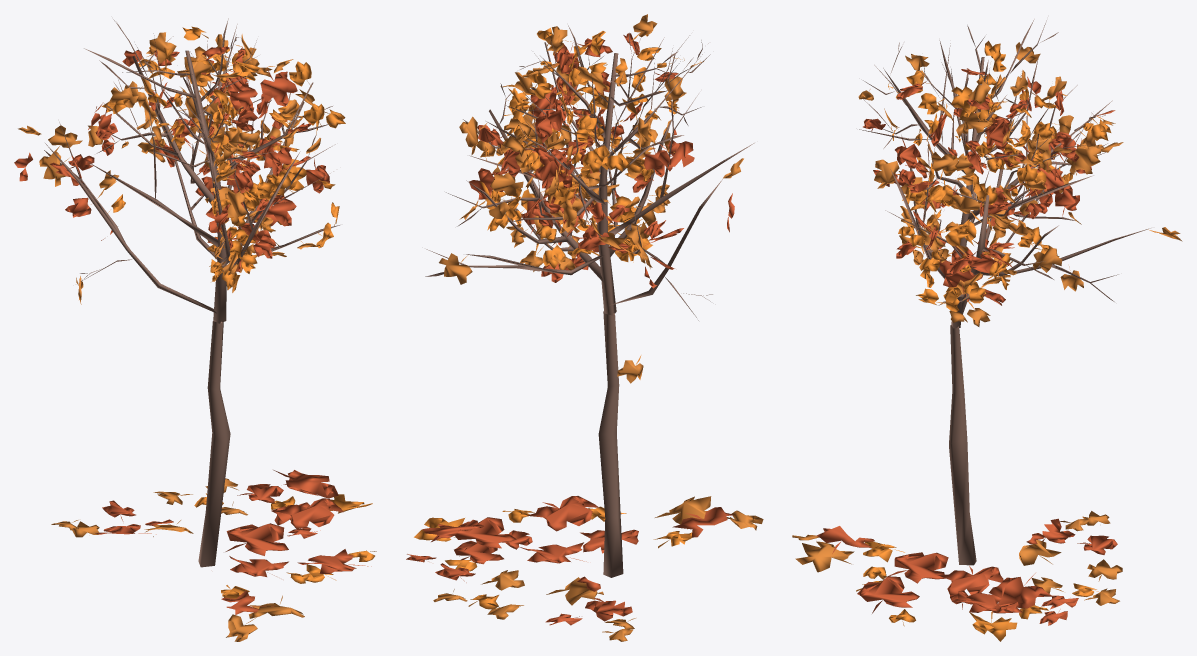
Rendered from caymoi.fbx.
3 views of the same model, side by side, from view 1: azimuth 30°, elevation 25°; view 2: azimuth 150°, elevation 25°; view 3: azimuth 270°, elevation 25° (orthographic). The views are drawn at different scales.
Visible parts, largest first — view 1: yellow, tree; view 2: yellow, tree; view 3: yellow, tree.
Part boxes in pixels (bbox=[...]): yellow: bbox=[14, 26, 376, 641]; tree: bbox=[44, 18, 339, 567]; yellow: bbox=[406, 14, 763, 641]; tree: bbox=[425, 25, 754, 577]; yellow: bbox=[792, 40, 1182, 641]; tree: bbox=[859, 19, 1150, 565].
Size of the model in its own units: 64.18 by 98.94 by 66.75.
